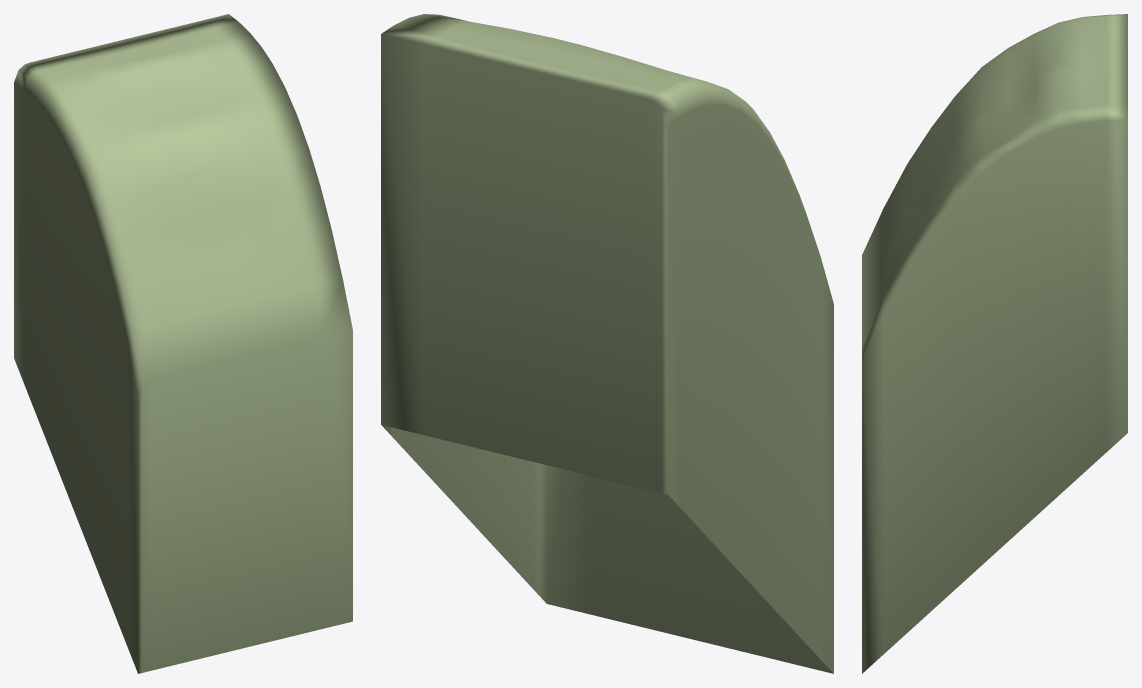
Rendered from ground-ramp-l-32.glb.
3 renders of one model, left to right at view 1: azimuth 30°, elevation 25°; view 2: azimuth 150°, elevation 25°; view 3: azimuth 270°, elevation 25°, orthographic. The views are drawn at different scales.
Parts seen in each view (by area): view 1: ground-ramp-l-32; view 2: ground-ramp-l-32; view 3: ground-ramp-l-32.
Boxes of the visible parts, x1,y1,x2,y2 form: ground-ramp-l-32: (14, 14, 352, 673); ground-ramp-l-32: (381, 14, 833, 673); ground-ramp-l-32: (862, 14, 1127, 673).
Size of the model in its own units: 1 by 2.3 by 1.
